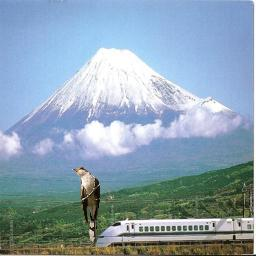Cuckoo: (72, 167, 101, 244)
